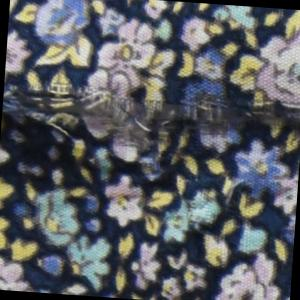Damage: (1, 73, 300, 166), (167, 187, 224, 243)
